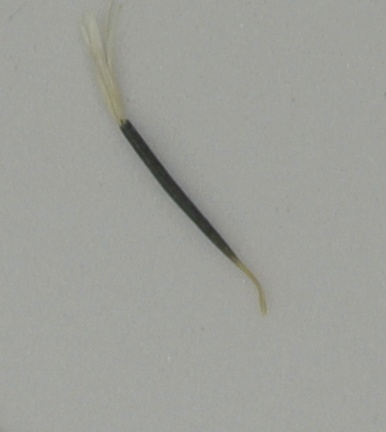เมล็ดดีเรียวยาว: (73, 1, 272, 316)
